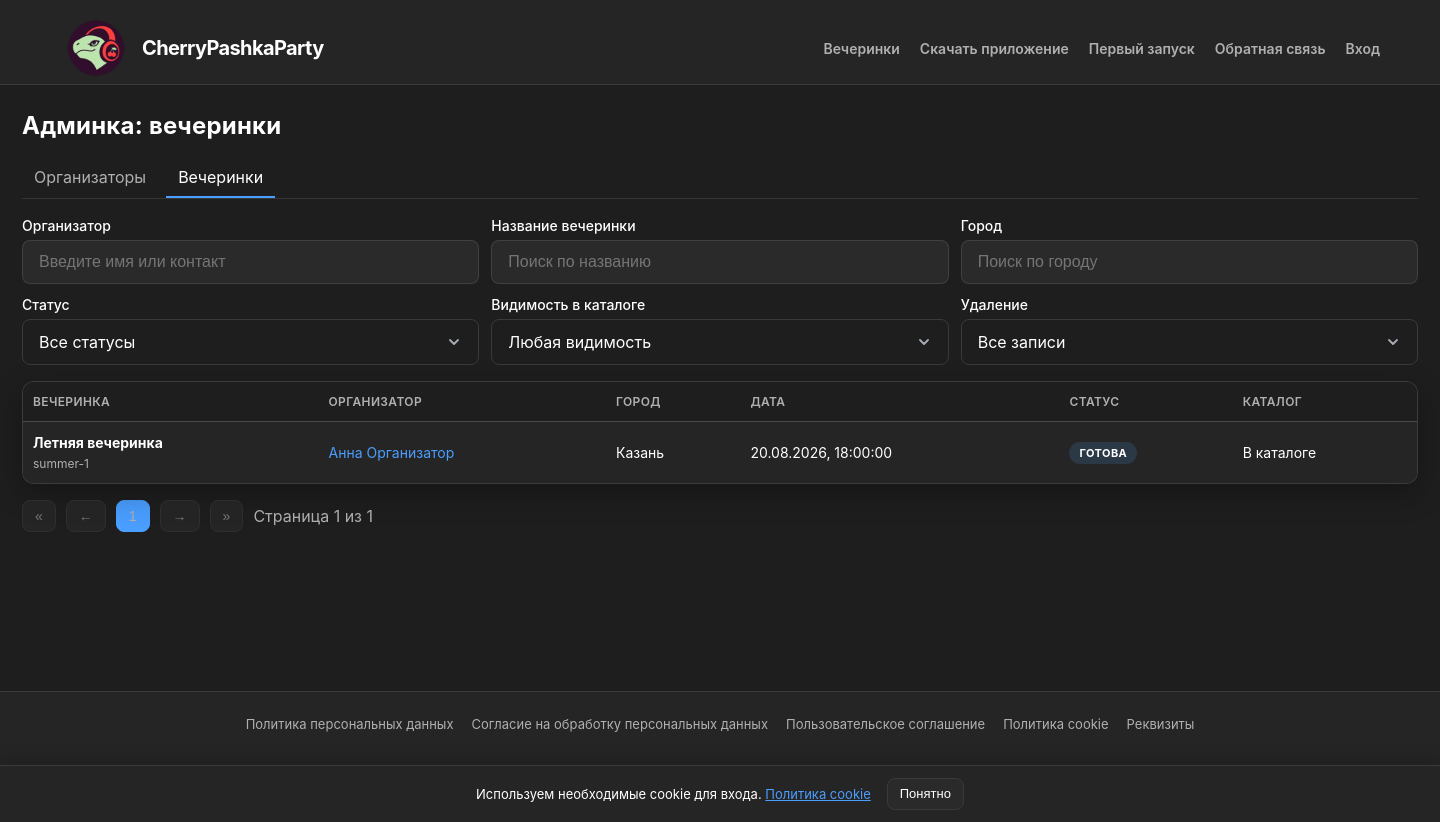
Scenario: admin parties page behavior › blocks lifecycle changes only when session and desktop are both active: false / false
Click the link "Летняя вечеринка".
click(98, 442)  # box left=33, top=434, right=163, bottom=451
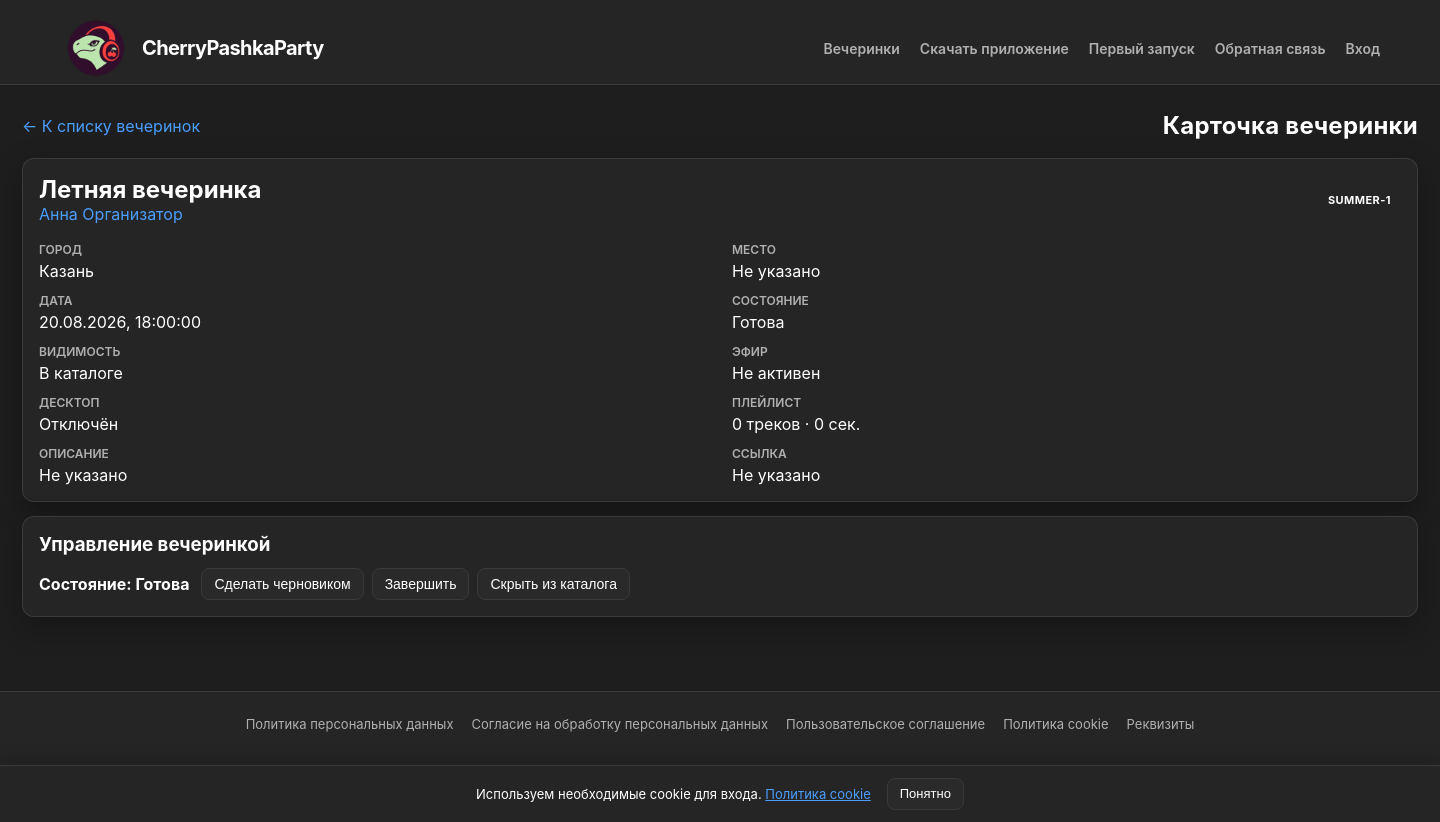
Now the heading "Карточка вечеринки" is shown, box left=1163, top=111, right=1418, bottom=140
